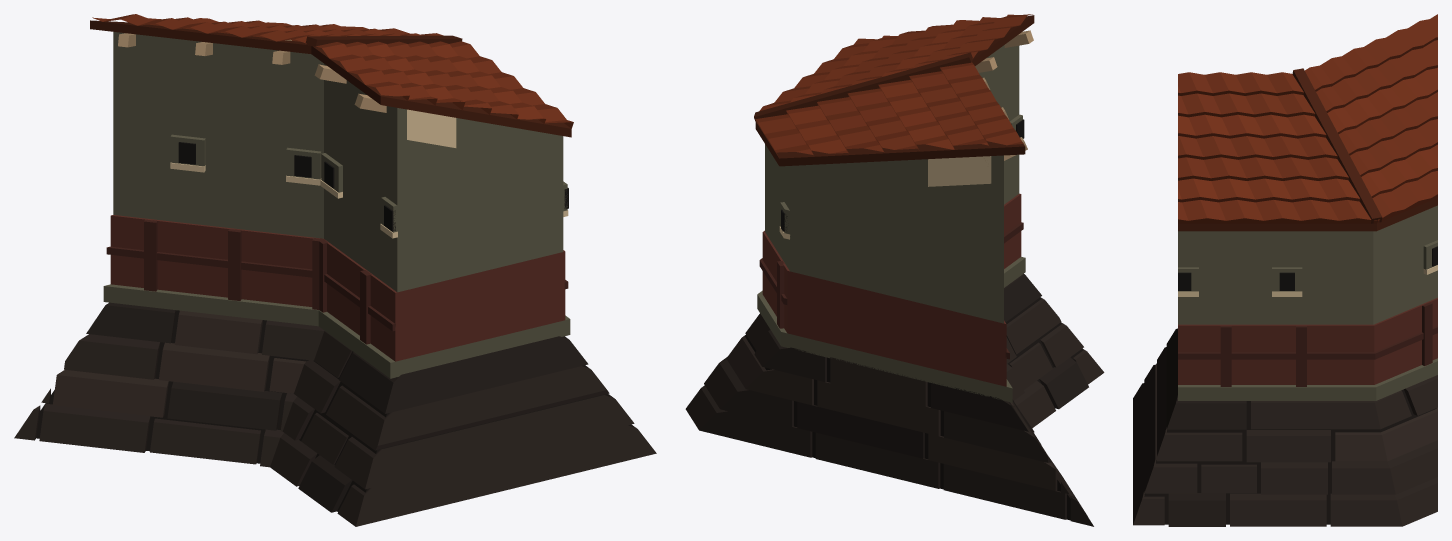
The model's file is VerJoint08.glb.
The picture shows the model from 3 angles, left to right: view 1: azimuth 30°, elevation 25°; view 2: azimuth 150°, elevation 25°; view 3: azimuth 270°, elevation 25°; orthographic projection. The views are drawn at different scales.
Parts seen in each view (by area): view 1: VerJoint08_mortar; view 2: VerJoint08_mortar; view 3: VerJoint08_mortar.
Boxes of the visible parts, box(x1,y1,x2,y2) form: VerJoint08_mortar: box(14, 14, 656, 526); VerJoint08_mortar: box(685, 14, 1104, 526); VerJoint08_mortar: box(1133, 14, 1437, 526).
Bounding box in the file's own units: 6.8 × 5.61 × 4.42.
